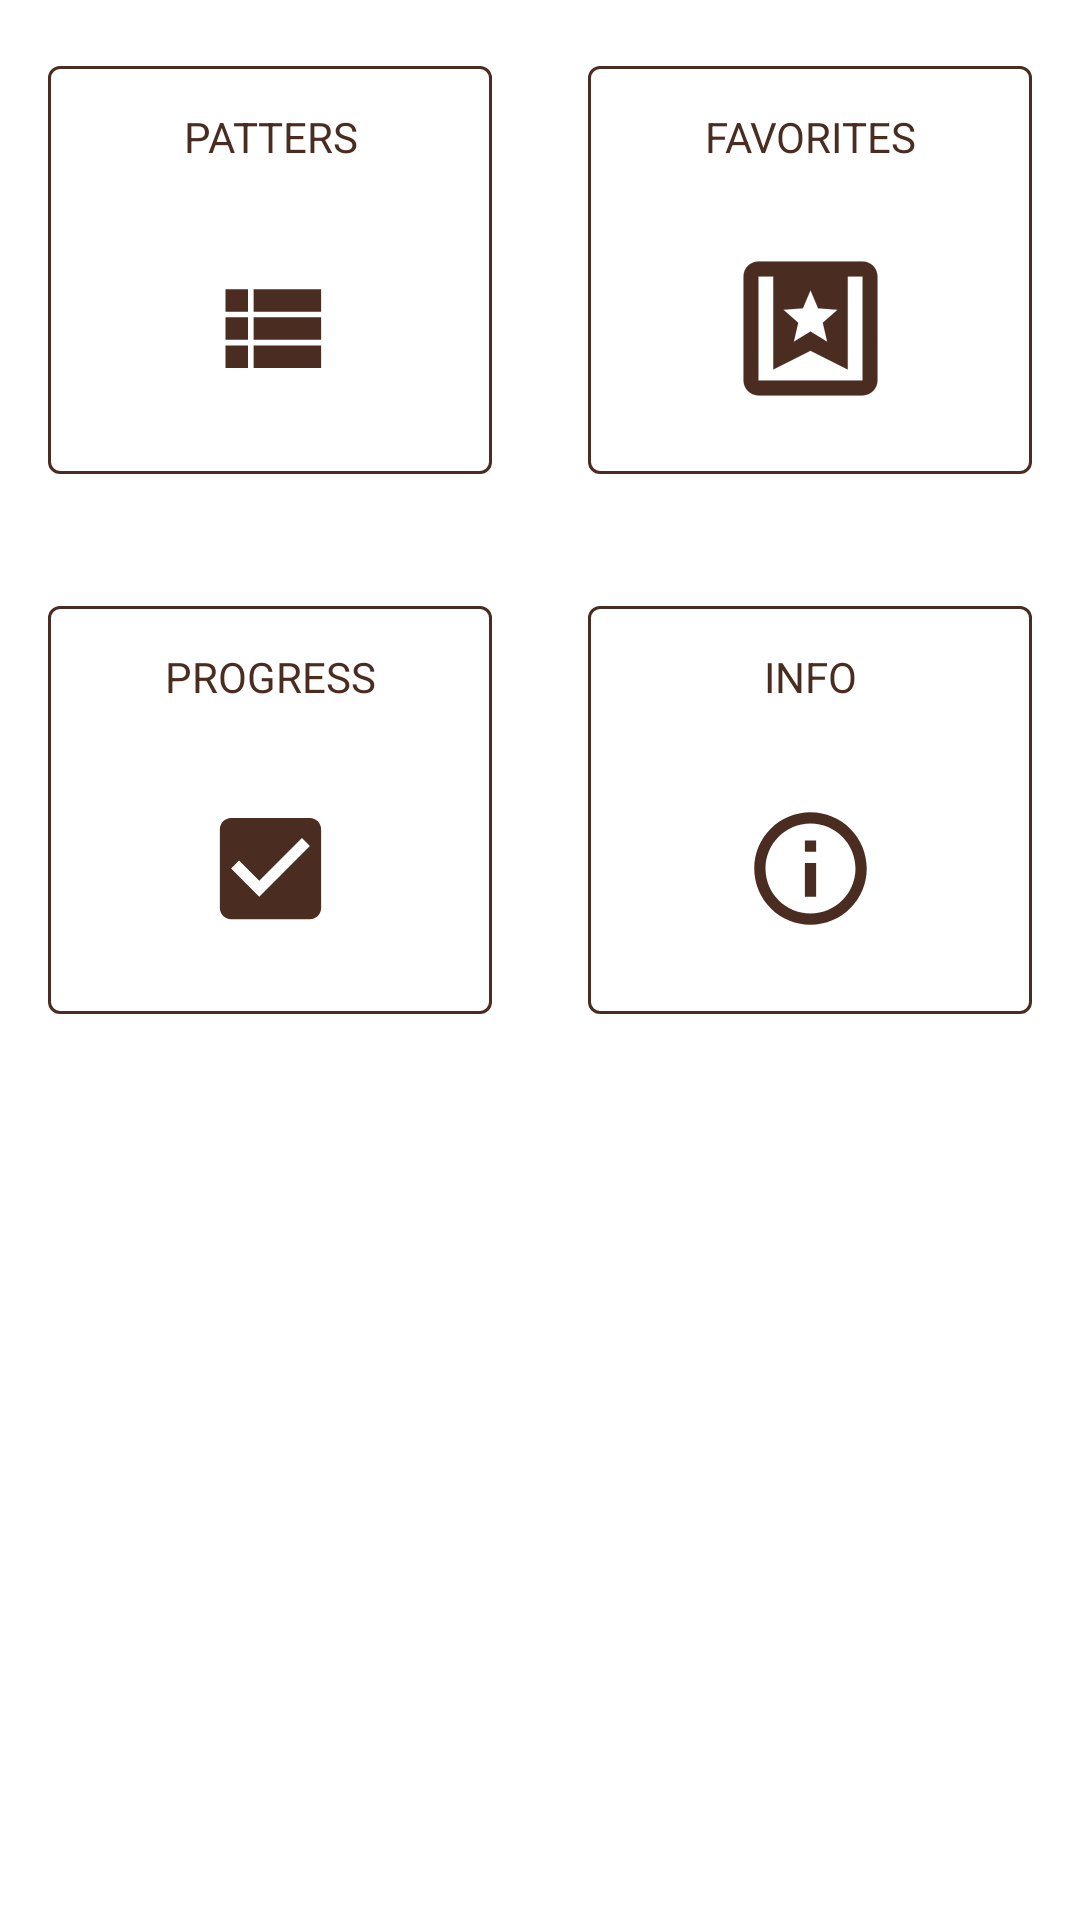

Named icons in this screenshot (1080x1920) and their centers, point (x, y):
check box: point (270, 869)
star: point (810, 328)
view list: point (273, 328)
